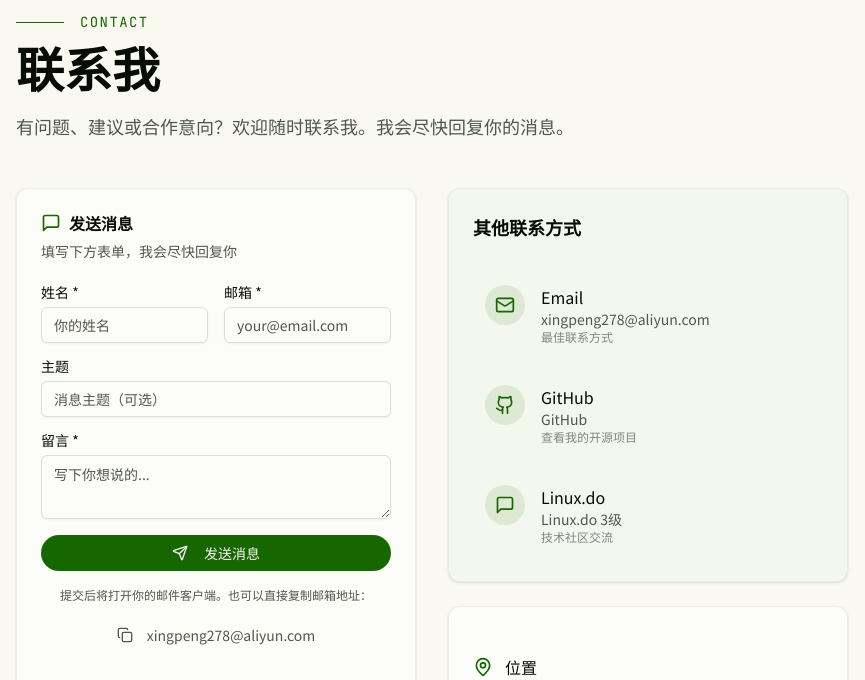
F11: 邮箱格式校验（validation.ts 单元 + Contact/Newsletter 集成） › Contact: 邮箱非法时提交应显示行内错误且不进入提交流程
Type "张三" into the field labelled "姓名 *" at (124, 325), box [41,307,208,343]
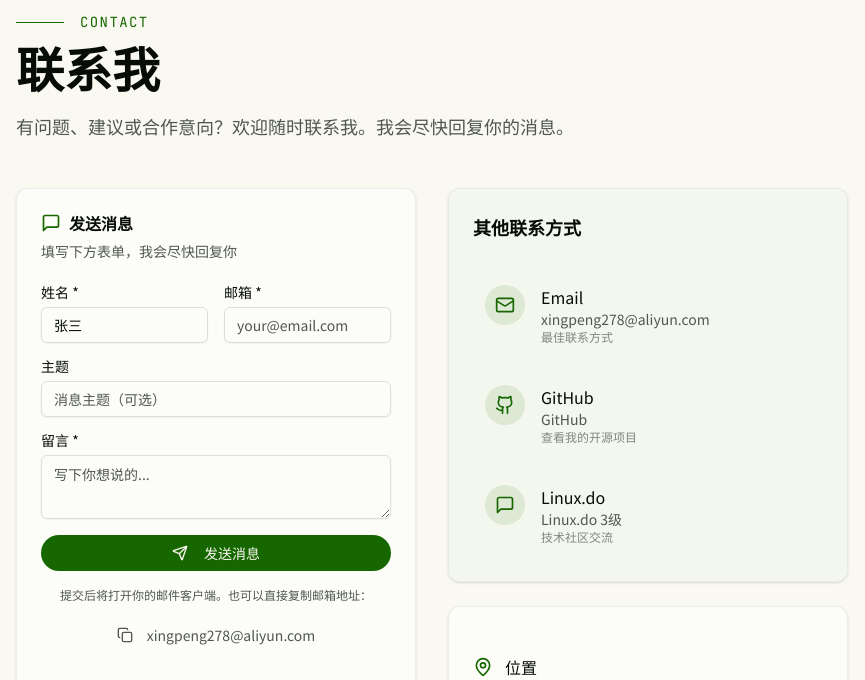
Type "invalid-email" into the field labelled "邮箱 *" at (308, 325), box [224,307,391,343]
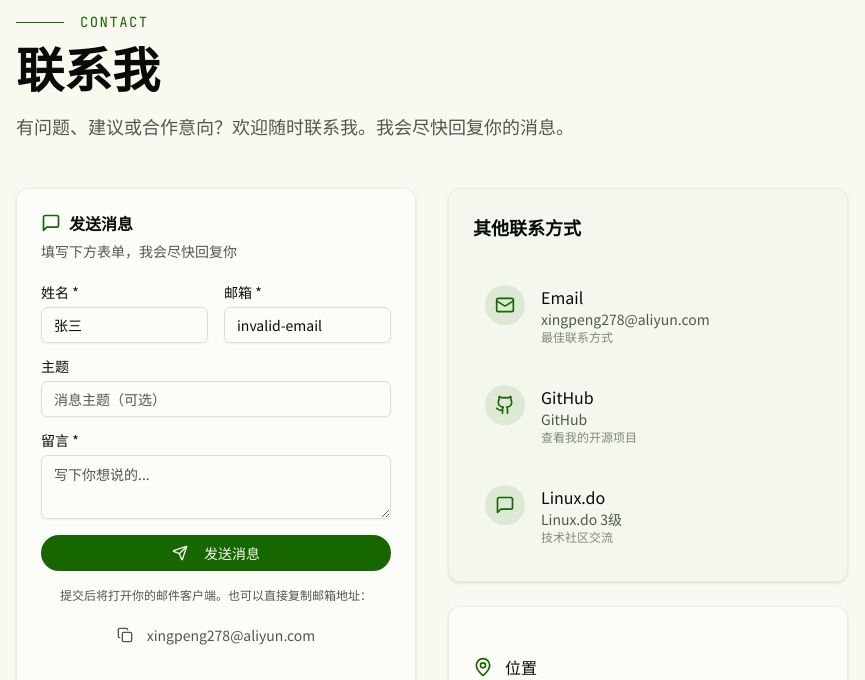
Type "留言内容" into the text box labelled "留言 *" at (216, 487), box [41,455,391,519]
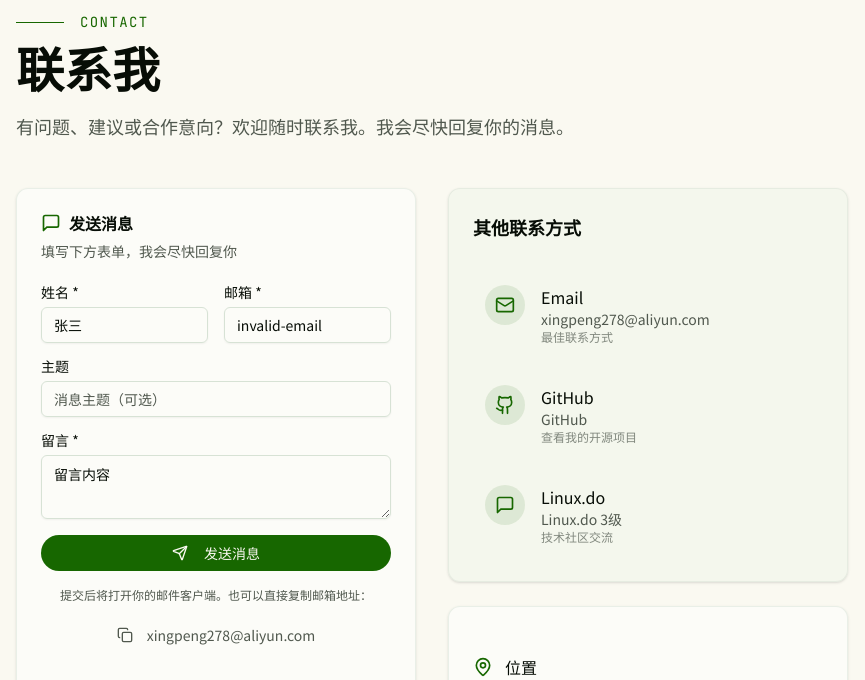
Submit the form "发送消息", box [41,285,391,651]
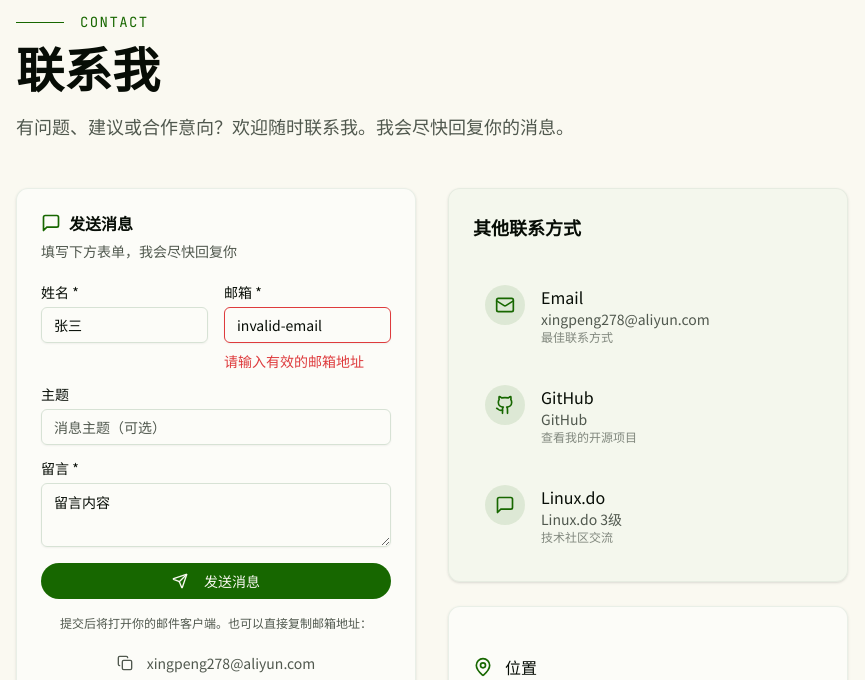
Result: the text "请输入有效的邮箱地址" is shown at [224,351,364,371]
